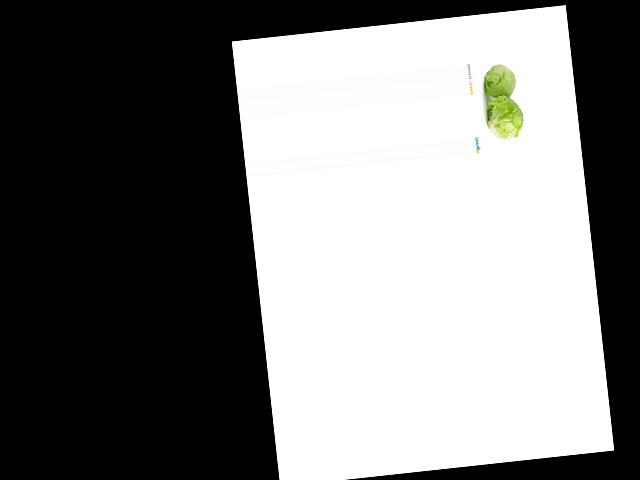lettuce: (474, 61, 518, 110)
